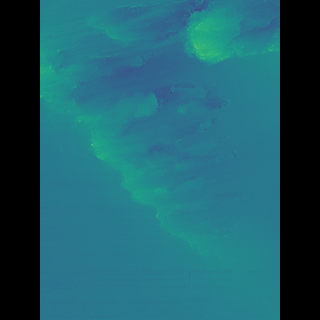Loch: (67, 0, 241, 263)
